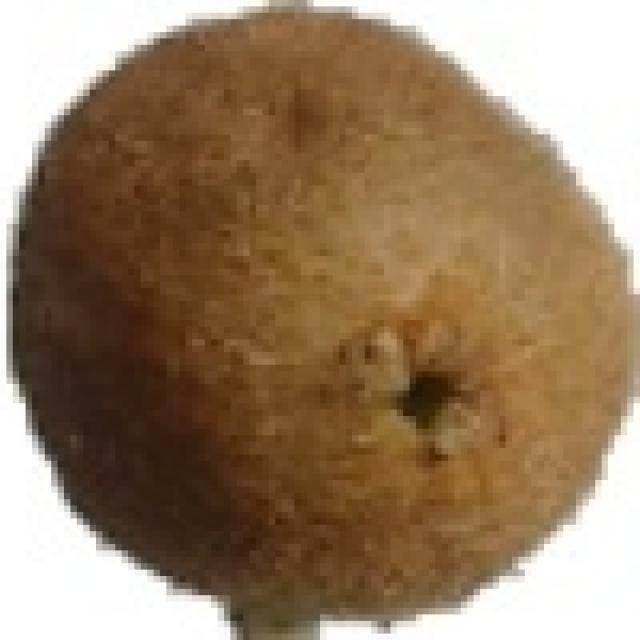kiwi: (13, 11, 629, 640)
